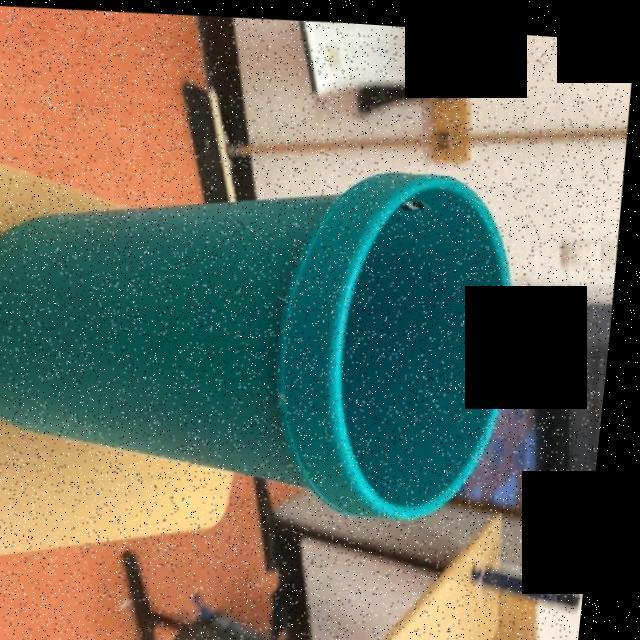bin: (0, 100, 632, 551)
